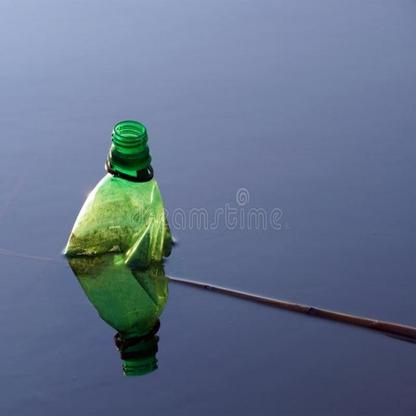plastic bottle: (63, 121, 177, 262)
